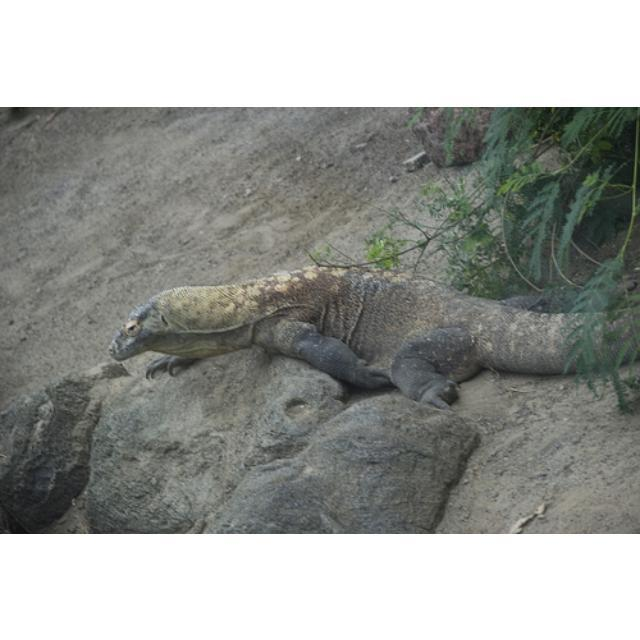KomodoDragon: (111, 263, 640, 406)
